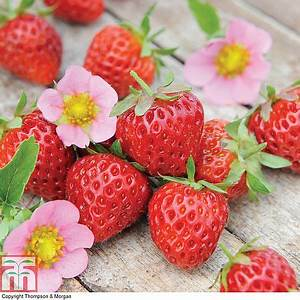Fresa: (106, 78, 210, 186), (142, 167, 234, 280), (57, 144, 154, 246), (1, 97, 85, 206), (245, 77, 300, 185)
